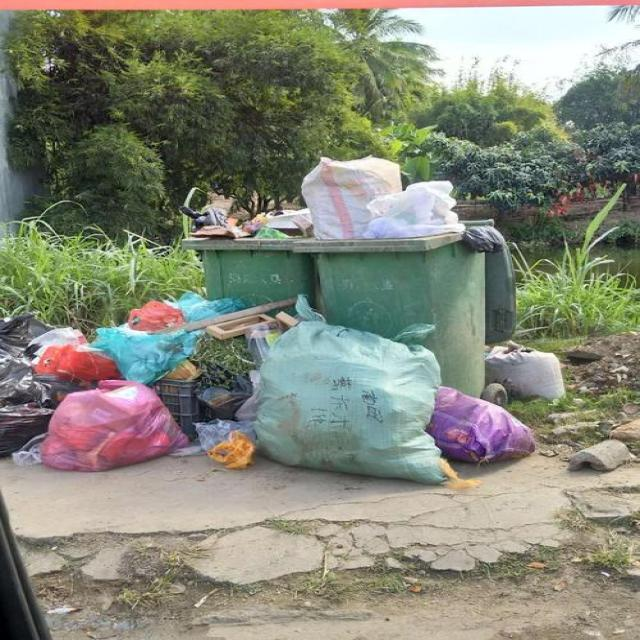garbage: (0, 290, 562, 482)
overflow: (292, 154, 518, 398), (182, 196, 317, 316)
